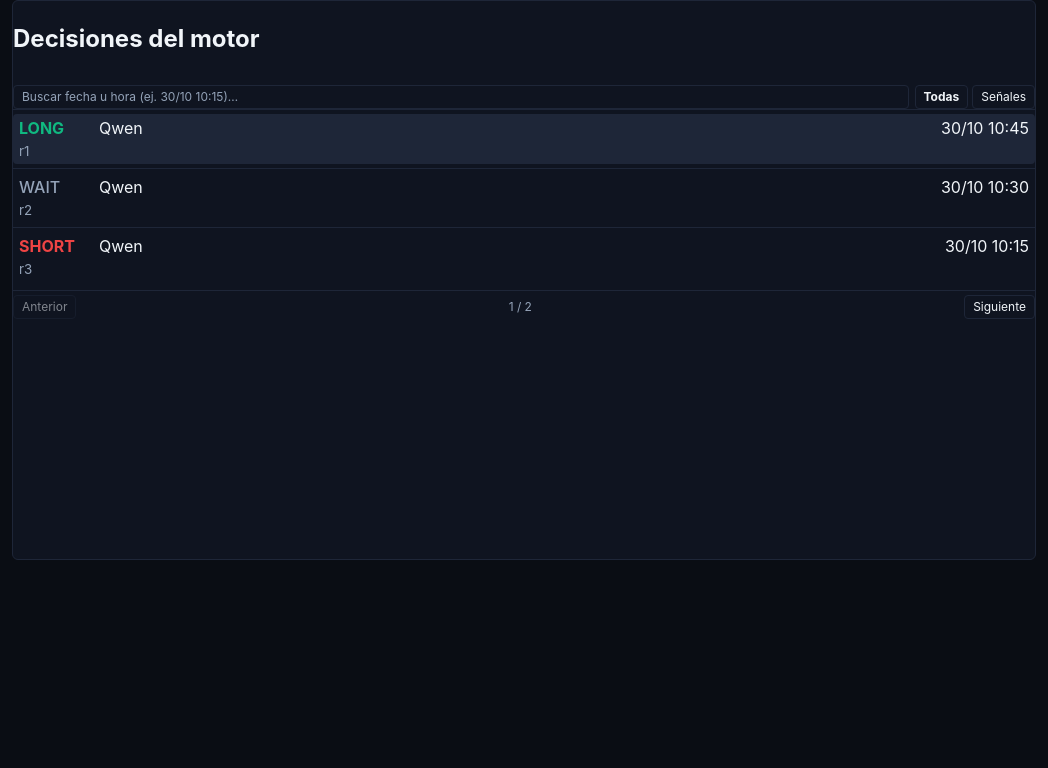
Test: Terminal decision presentation › paginates signals 3 per page and filters by specific date and time
Expected: the number of list items is 3, [13,109,1035,168]; [13,168,1035,227]; [13,227,1035,286]
Expected: the text "1 / 2" is shown, [509,298,532,316]
Click the button "Siguiente" at (1000, 307), box [964,295,1035,319]
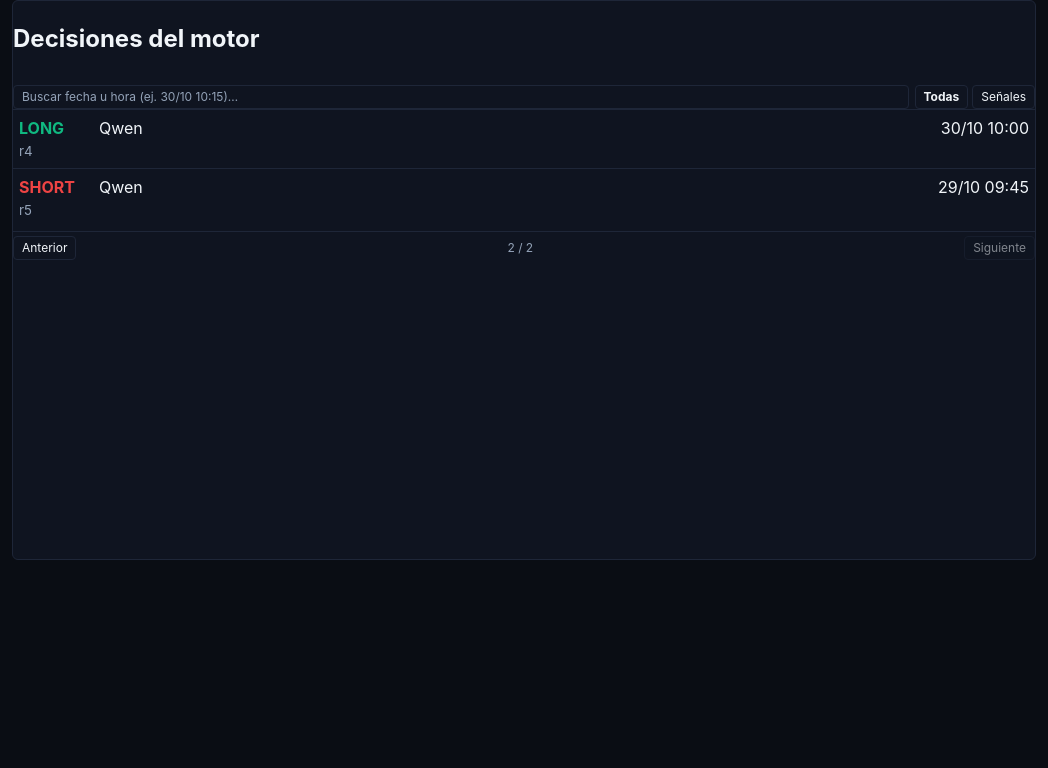
Now the number of list items is 2, box [13,109,1035,168]; [13,168,1035,227]
Now the text "2 / 2" is shown, box [507,239,533,257]
Now the text "29/10 09:45" is shown, box [938,175,1029,199]
Type "29/10 09:45" into the search field named "Buscar señal por fecha u hora" at (461, 97), box [13,85,908,109]
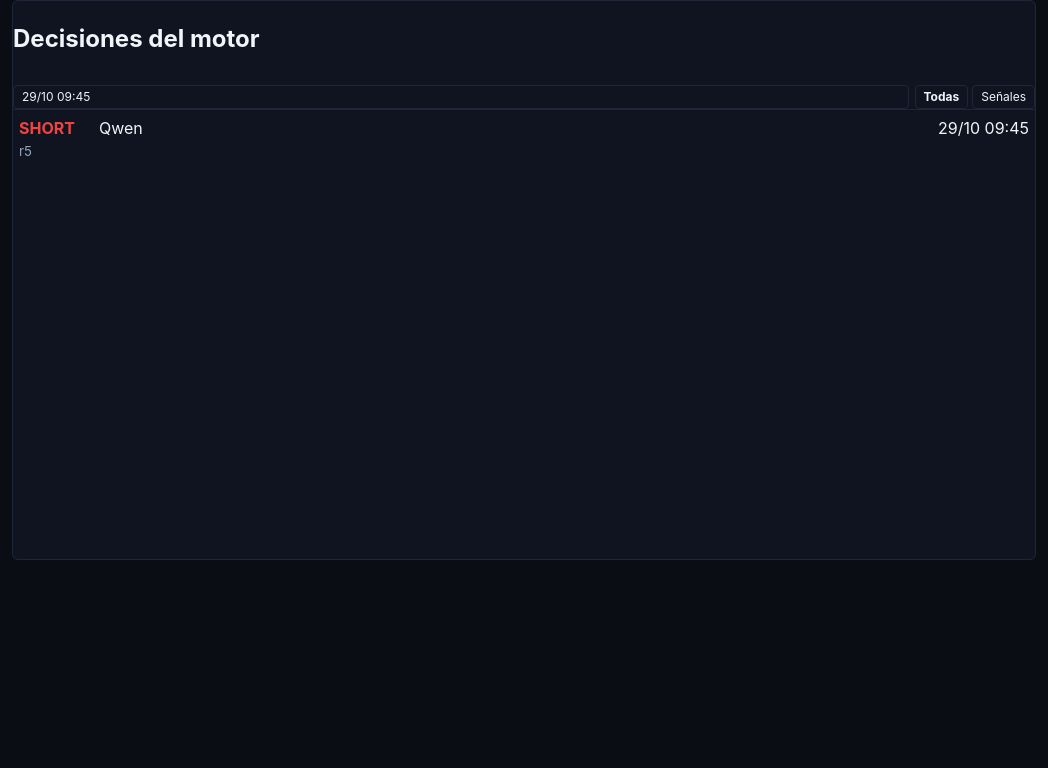
Now the text "29/10 09:45" is shown, box [938,116,1029,140]
Now the number of list items is 1, box [13,109,1035,168]
